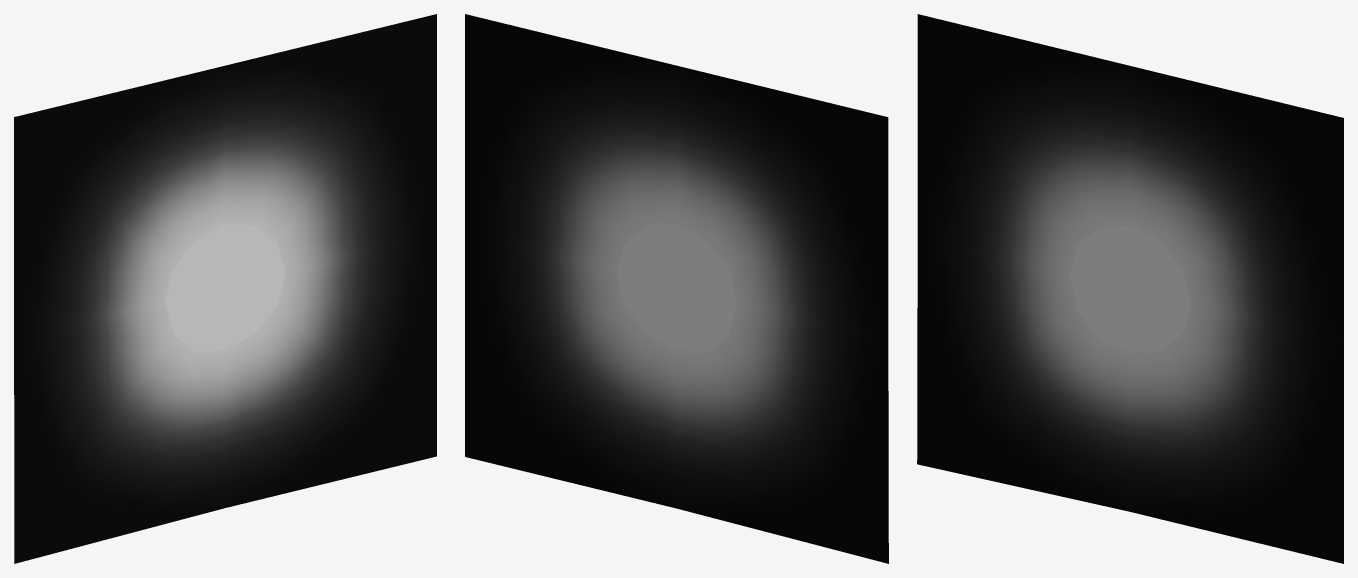
Rendered from 1.100_SanFrancisco_train_light.glb.
3 views of the same model, side by side, from view 1: azimuth 30°, elevation 25°; view 2: azimuth 150°, elevation 25°; view 3: azimuth 330°, elevation 25° (orthographic).
Visible parts, largest first — view 1: 1.100_SanFrancisco_train_light; view 2: 1.100_SanFrancisco_train_light; view 3: 1.100_SanFrancisco_train_light.
Part boxes in pixels (x1,y1,x2,y2): 1.100_SanFrancisco_train_light: (14,14,436,563); 1.100_SanFrancisco_train_light: (465,14,888,563); 1.100_SanFrancisco_train_light: (917,14,1343,563).
Size of the model in its own units: 6.82 by 6.88 by 0.0111.
Materials: 1 (1 with a texture image).
